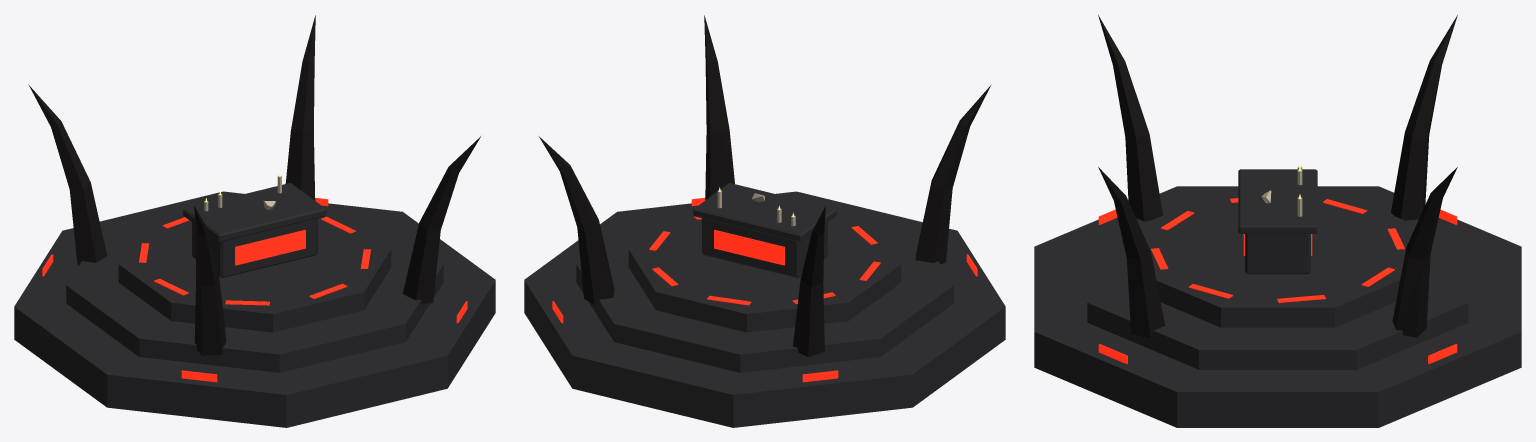
Rendered from altar_sangre.fbx.
3 renders of one model, left to right at view 1: azimuth 30°, elevation 25°; view 2: azimuth 150°, elevation 25°; view 3: azimuth 270°, elevation 25°, orthographic. The views are drawn at different scales.
Parts seen in each view (by area): view 1: altar_sangre; view 2: altar_sangre; view 3: altar_sangre.
Part boxes in pixels (left/top/right/bottom): altar_sangre: left=14, top=15, right=495, bottom=427; altar_sangre: left=524, top=15, right=1005, bottom=427; altar_sangre: left=1034, top=15, right=1521, bottom=427.
Bounding box in the file's own units: 11.09 × 5.9 × 11.09.
